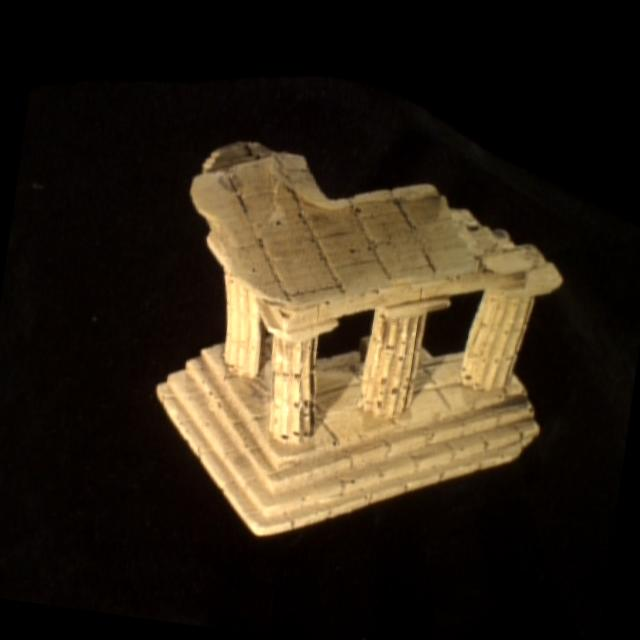Instance-Segmentation: (157, 143, 561, 534)
